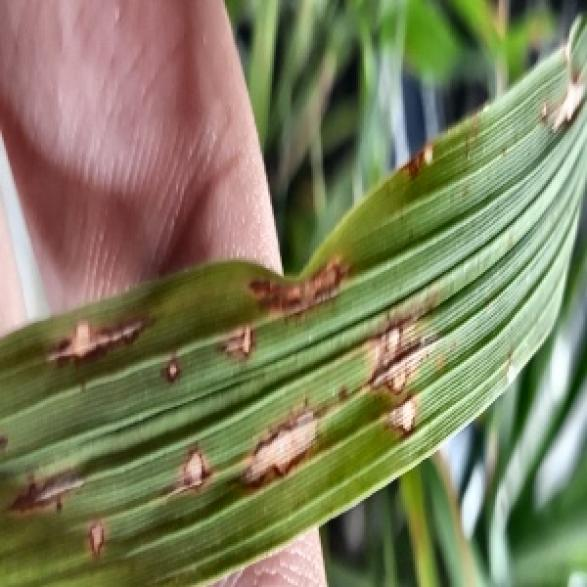Leaf_smut: (4, 299, 225, 585), (229, 246, 436, 499)
